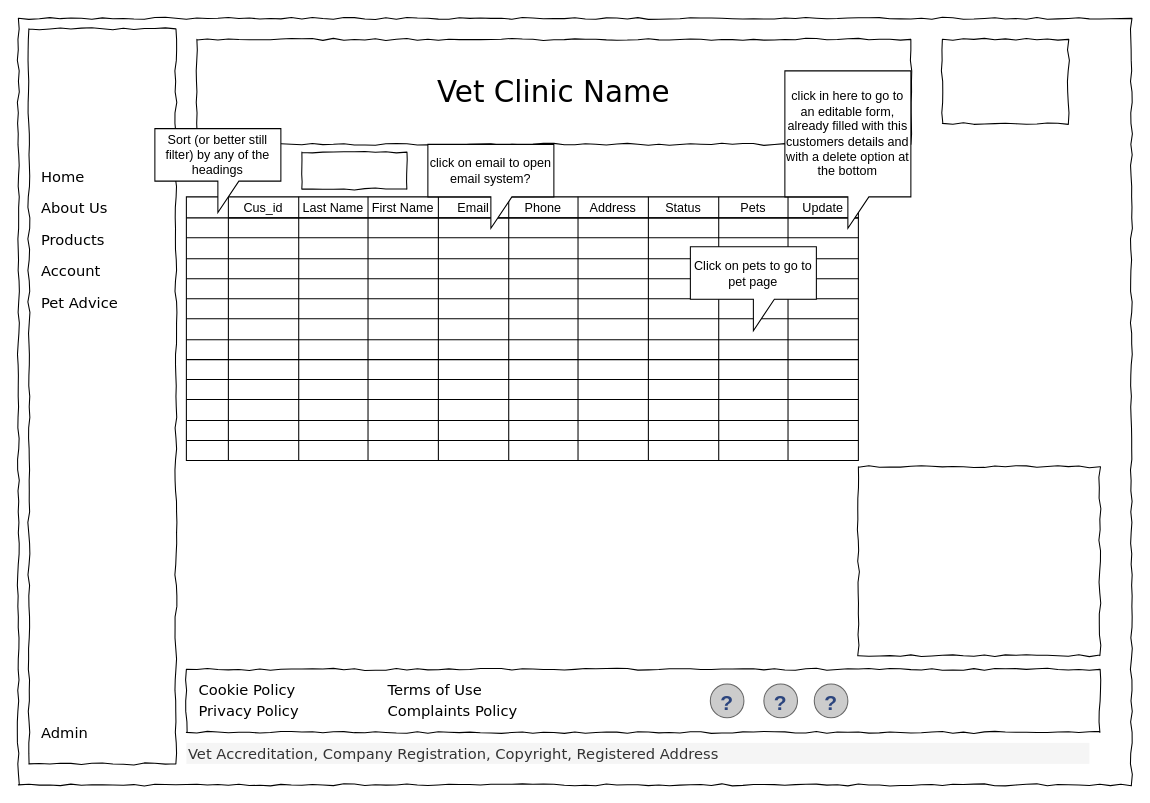
Some shapes in this 1150 by 803 pixel diagram are drawn without their labels. The shapes that lost their labels are listed below. From the top down, each one's centre as x and y in pixels, then its label:
the point at 1004,80: Logout
the point at 354,170: Customers
the point at 978,561: Opening Hours Phone Number Map
